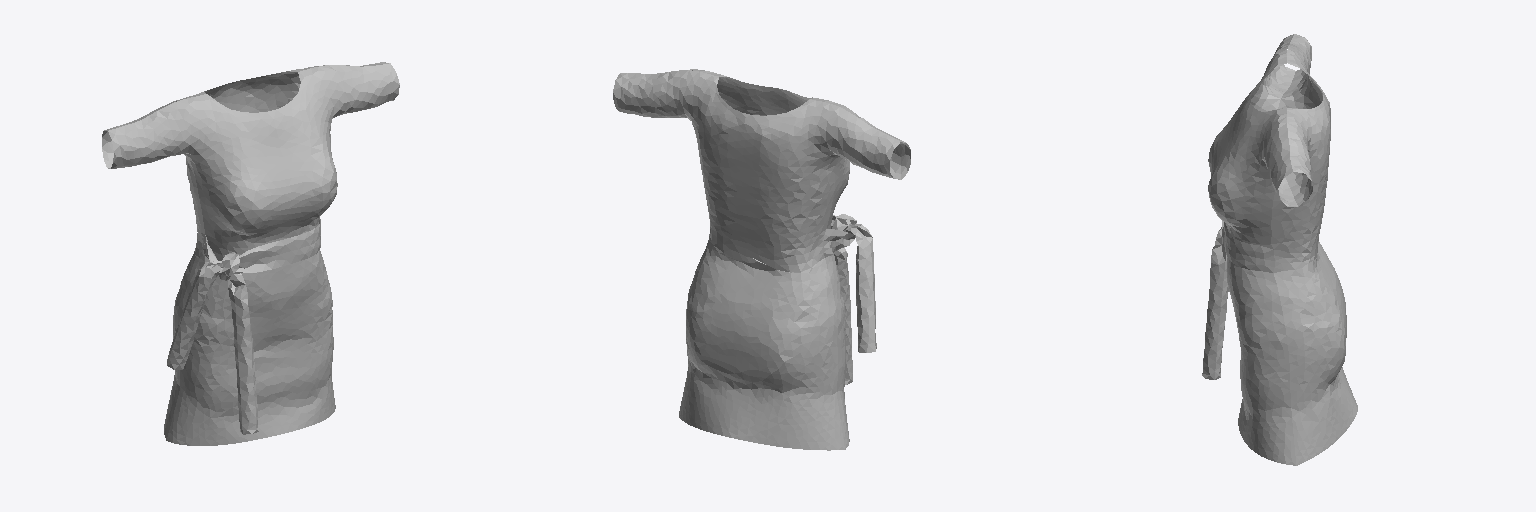
3 renders of one model, left to right at view 1: azimuth 30°, elevation 25°; view 2: azimuth 150°, elevation 25°; view 3: azimuth 270°, elevation 25°, orthographic.
Parts seen in each view (by area): view 1: small_tiedDress:polySurface1; view 2: small_tiedDress:polySurface1; view 3: small_tiedDress:polySurface1.
Part boxes in pixels (x1,y1,x2,y2): small_tiedDress:polySurface1: (102, 62, 399, 445); small_tiedDress:polySurface1: (613, 69, 910, 450); small_tiedDress:polySurface1: (1202, 34, 1357, 465).
Bounding box in the file's own units: 645 × 736 × 305.
Materials: 10 (1 with a texture image).